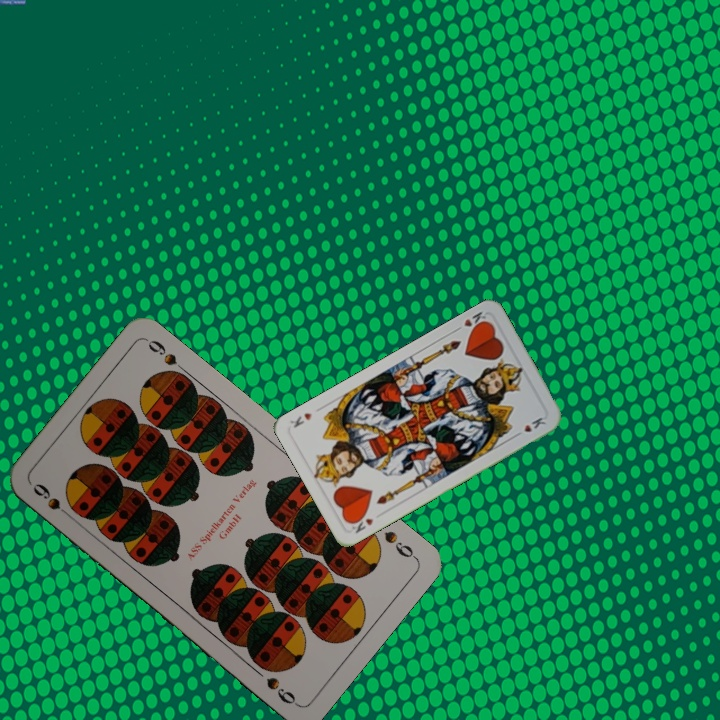HK: (451, 307, 491, 334), (346, 510, 376, 536)
S9: (28, 479, 78, 523), (380, 526, 419, 562)
